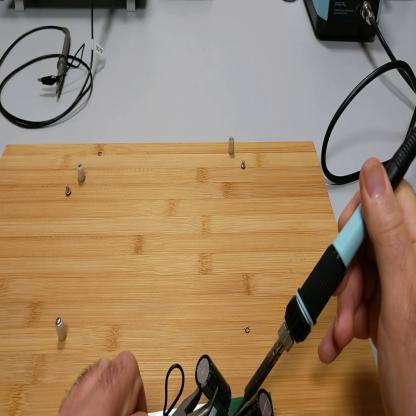hand: (320, 159, 416, 406), (57, 350, 146, 415)
high voltage board: (147, 357, 274, 416)
oscilloscope: (13, 1, 150, 16)
oscilloscope probe tip: (56, 29, 71, 100)
pliers: (175, 384, 222, 414)
welder base: (303, 1, 382, 46)
welder probe tip: (234, 128, 416, 415)
working area: (2, 141, 385, 411)
